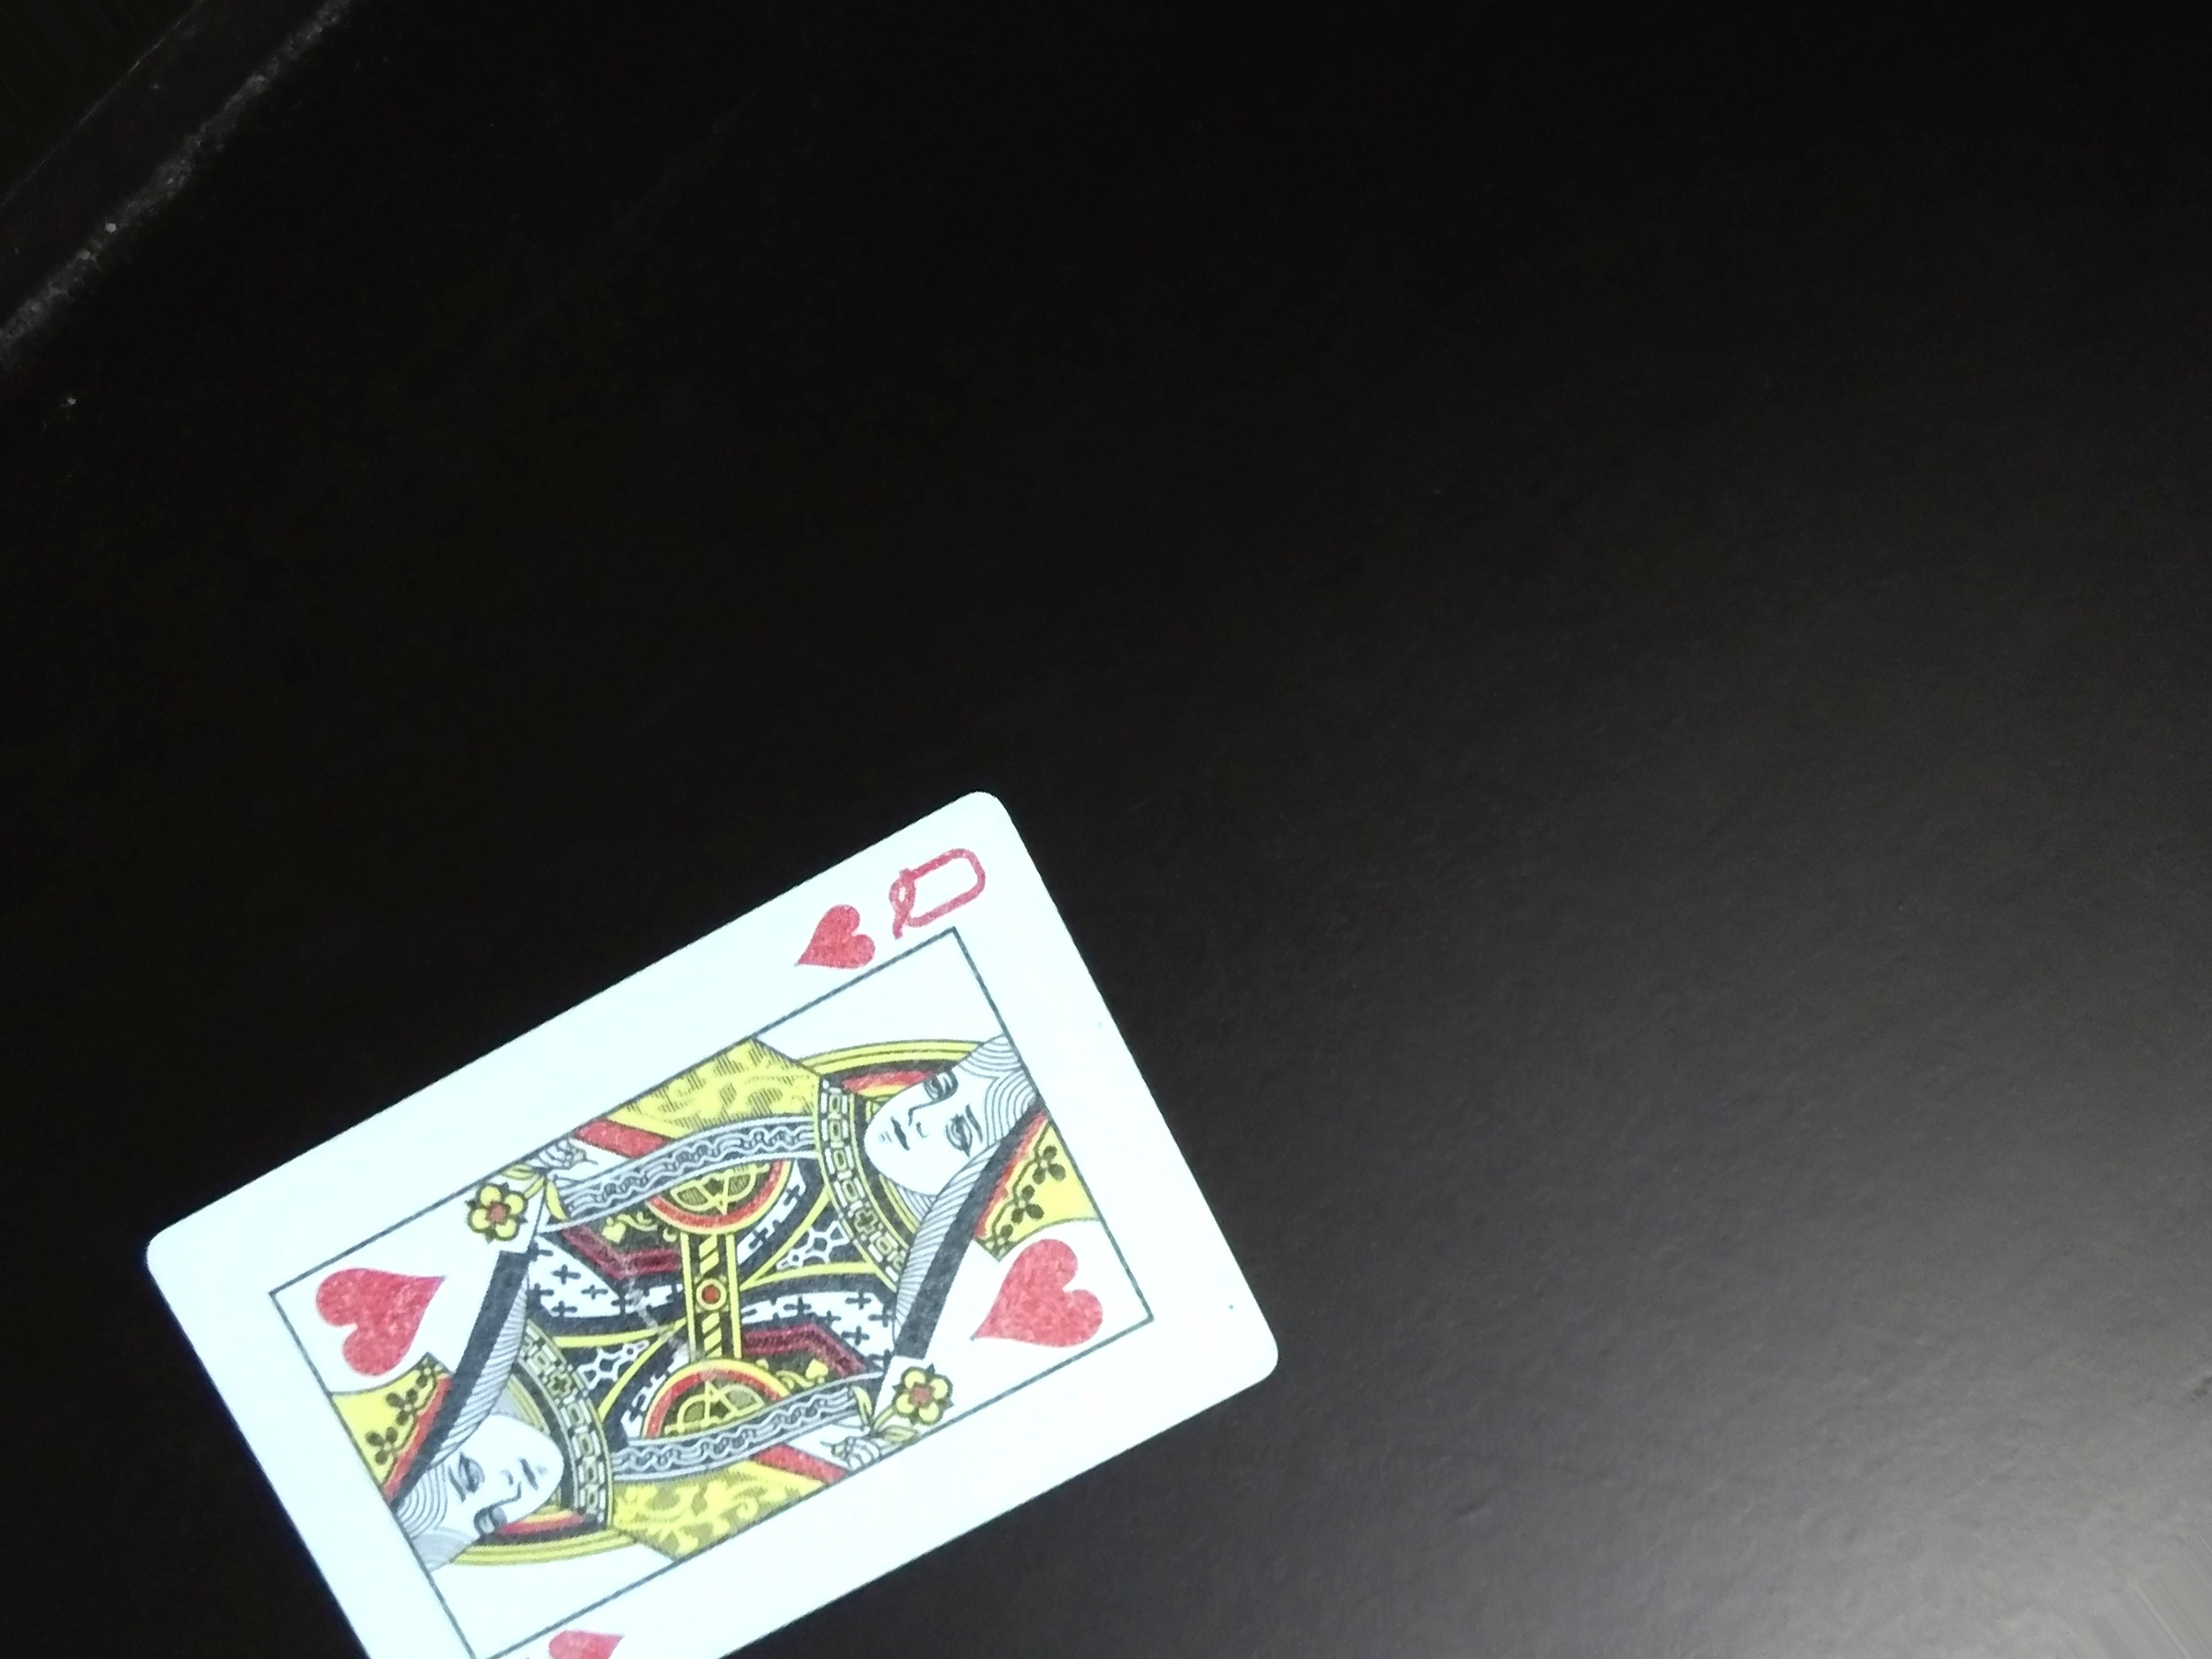QH: (784, 816, 1007, 992)
